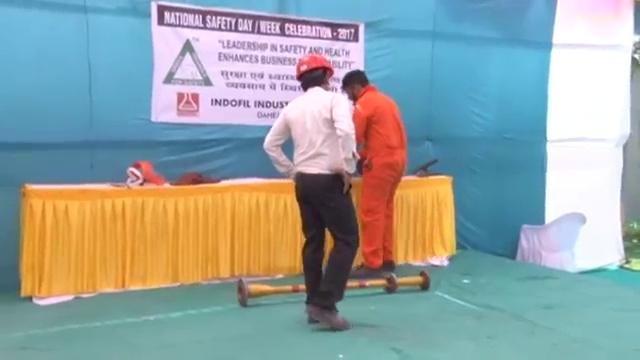helmet: (292, 52, 337, 80)
helmet_off: (339, 71, 372, 102)
helmet_on: (294, 53, 337, 96)
person: (263, 53, 357, 336), (336, 70, 407, 276)
